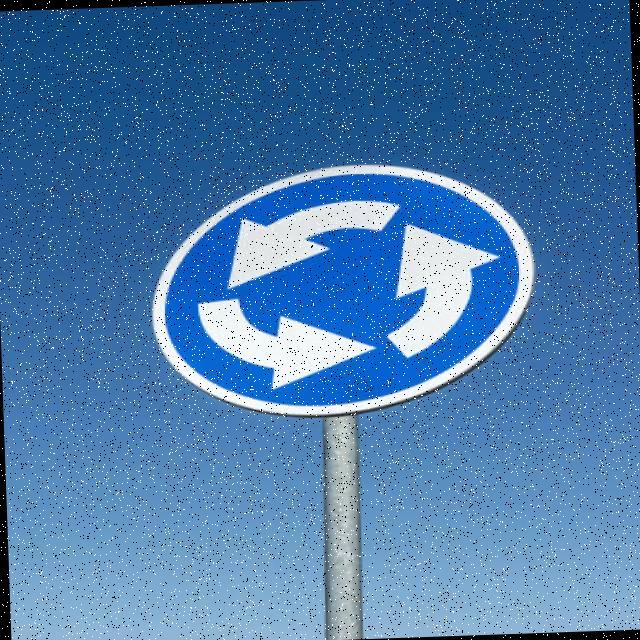round_about: (140, 153, 542, 422)
